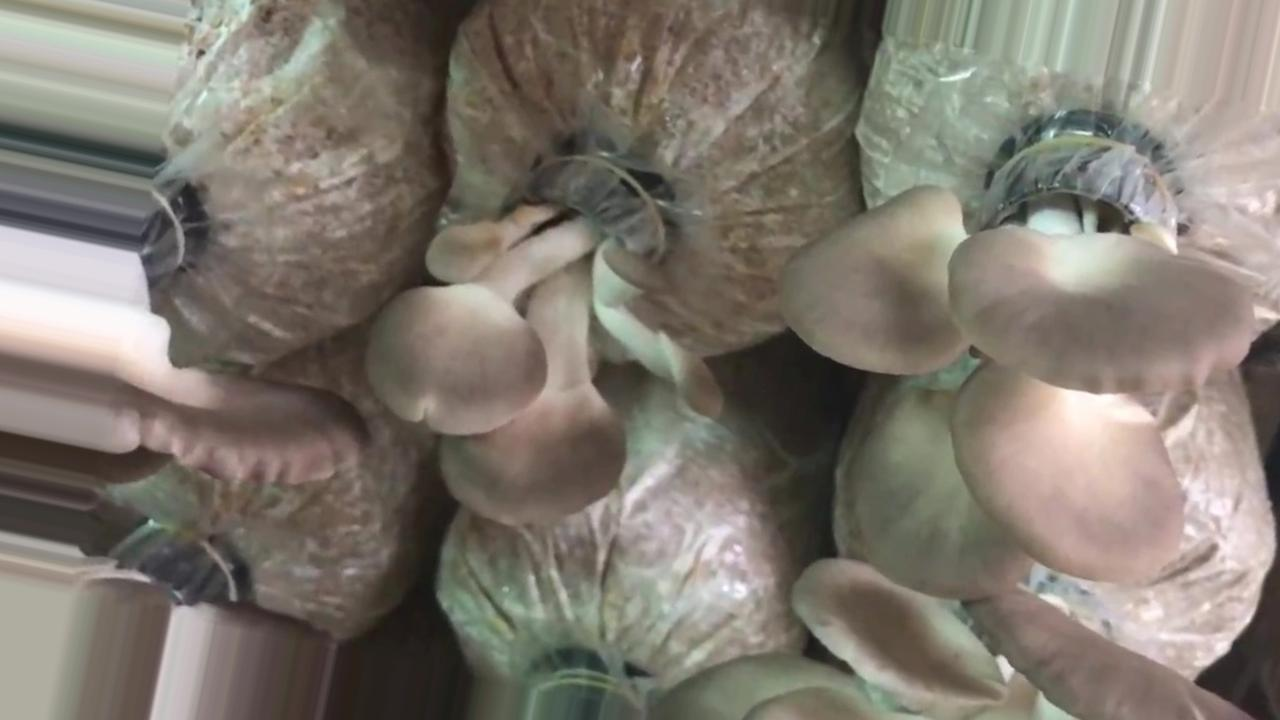nam: (784, 114, 1255, 596), (370, 139, 714, 523), (1, 157, 366, 484), (657, 564, 1246, 720), (1, 530, 352, 716)
